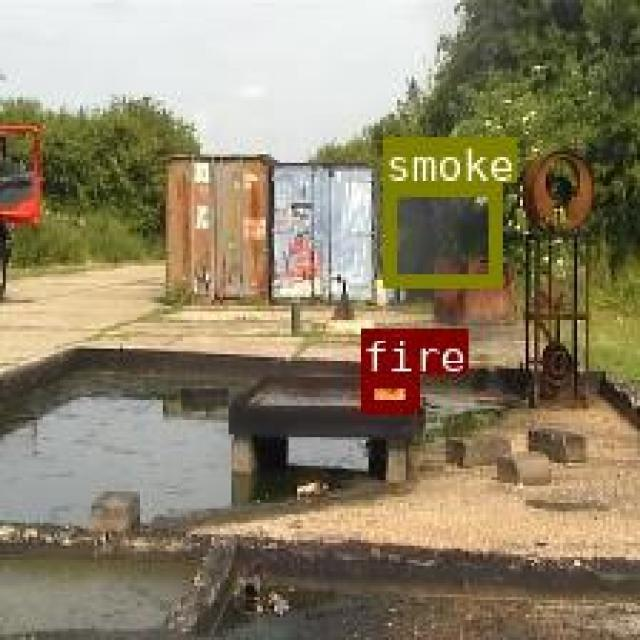fire: (357, 372, 415, 409)
smoke: (383, 181, 499, 284)
